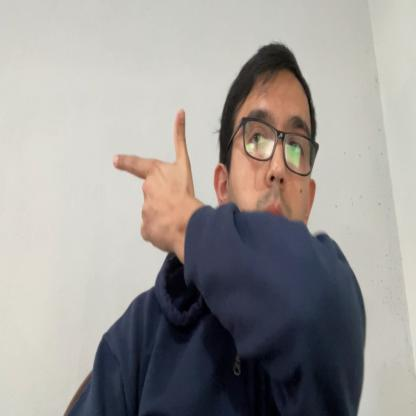G: (113, 108, 188, 252)
